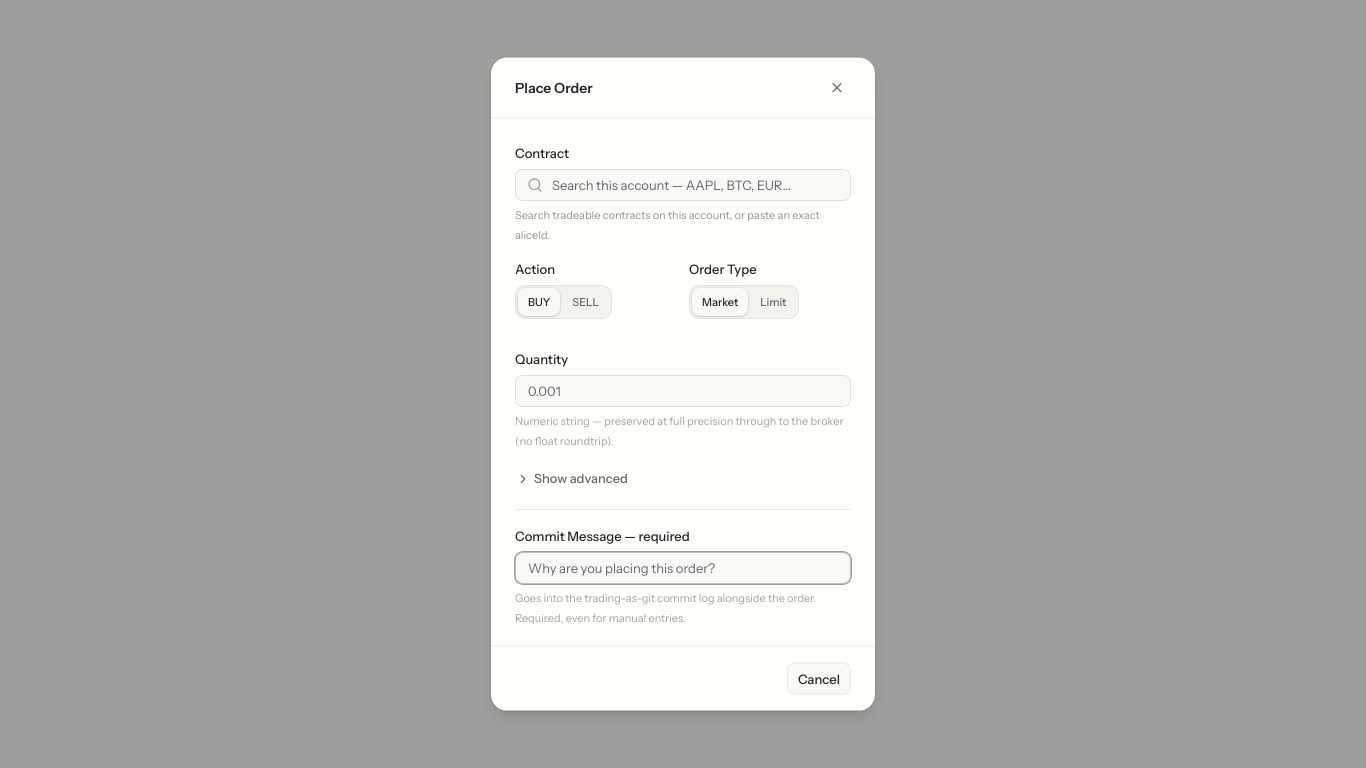
OrderEntryDialog sizing › removes Cash Qty when switching to a Limit order
Type "demo-paper|AAPL" into the search field labelled "Contract" at (683, 185), box [515,169,851,201]
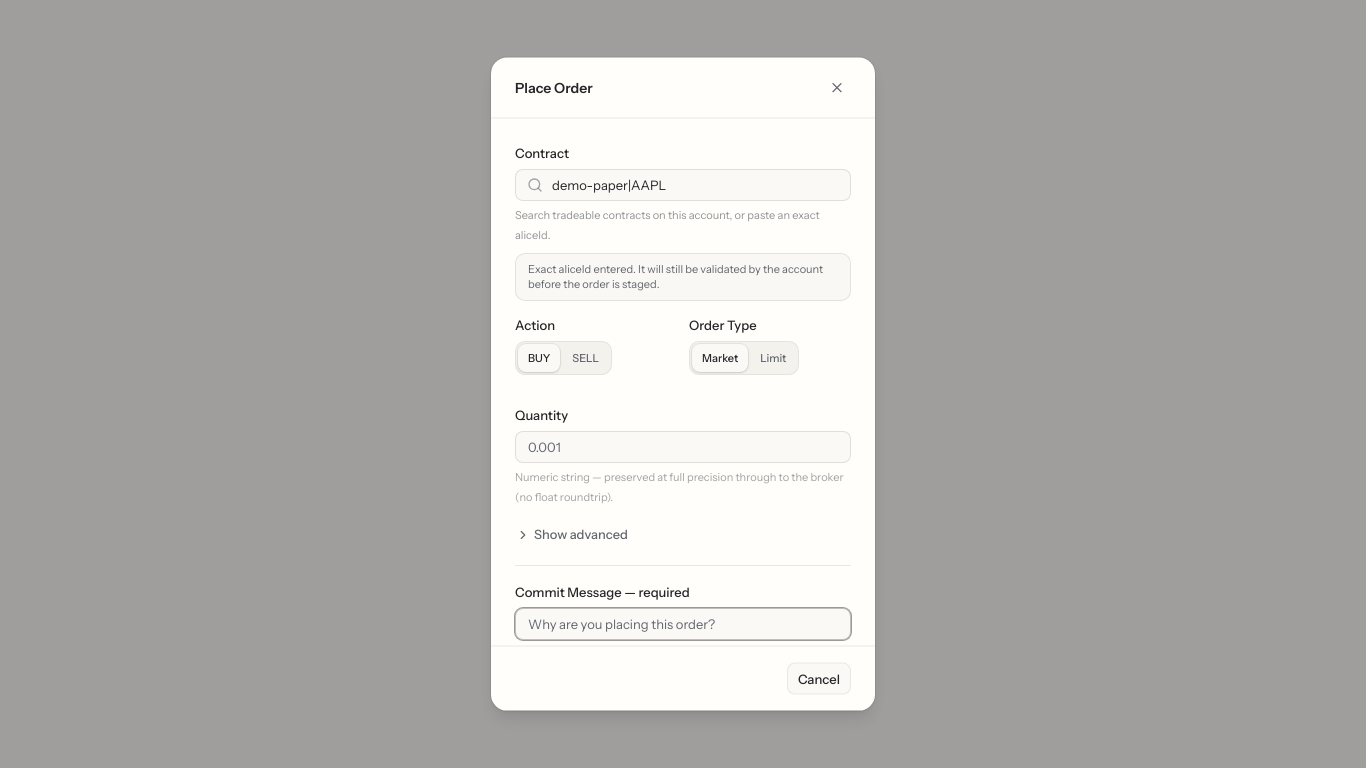
Type "Order sizing test" into the field with placeholder "Why are you placing this order?" at (683, 624), box [515,608,851,640]
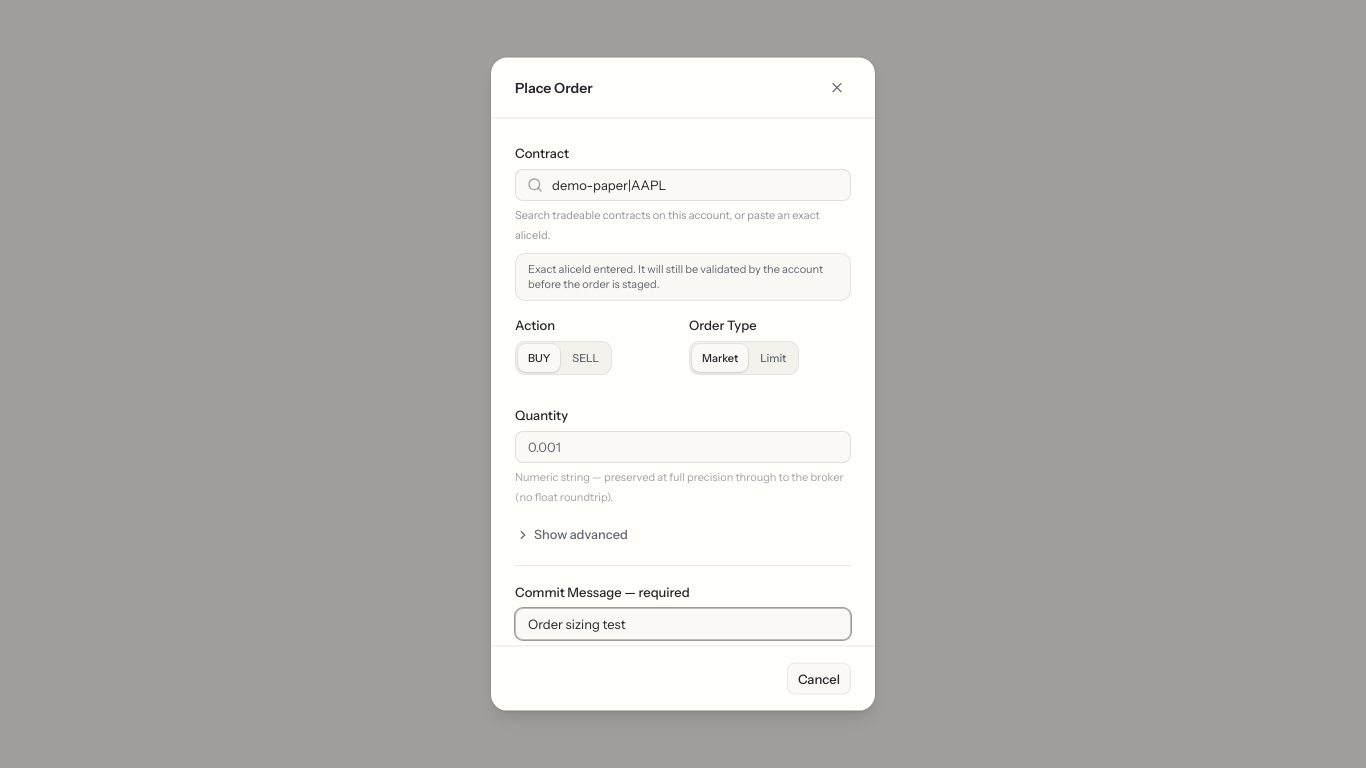
Click the button "Show advanced" at (572, 535), box [515,521,629,549]
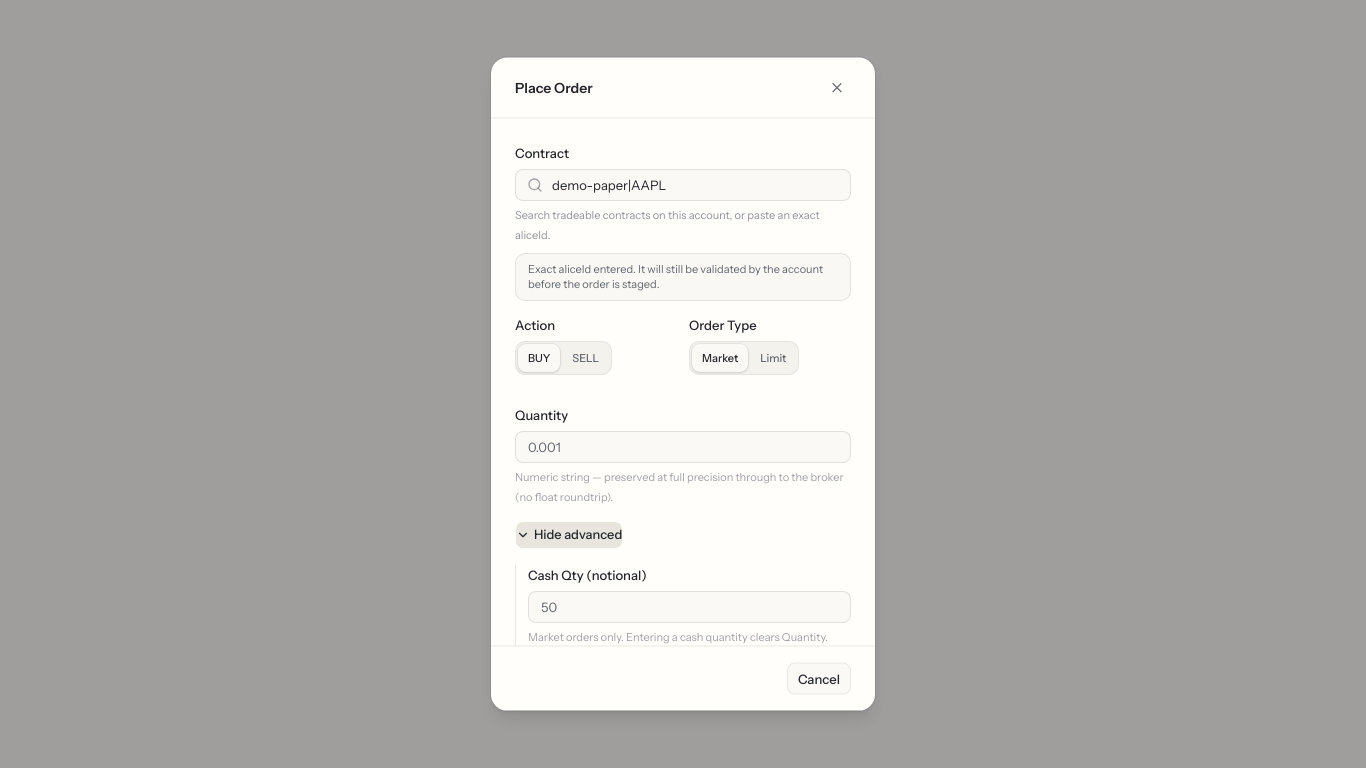
Type "100" into the field with placeholder "50" at (690, 607), box [528,591,851,623]
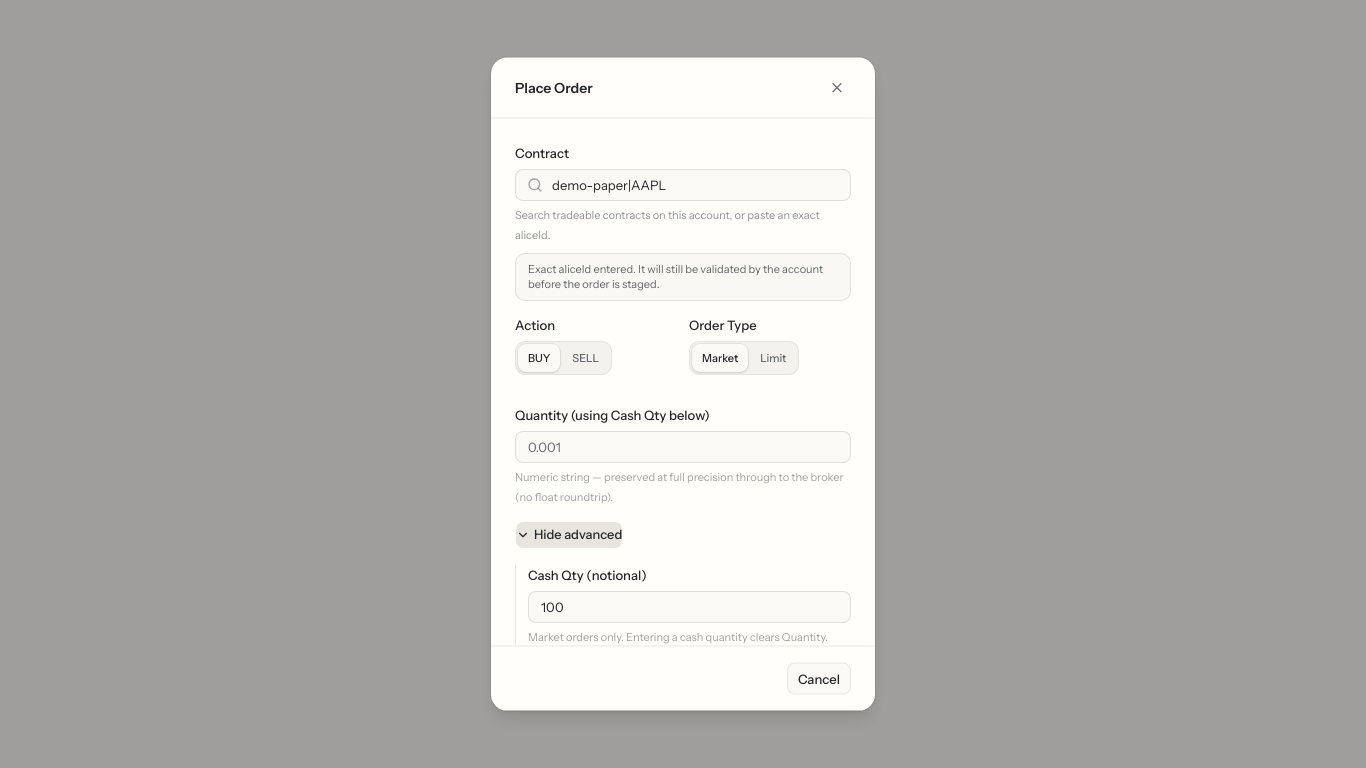
Click the button "Limit" at (773, 358), box [750,344,796,372]
(page scrolled)
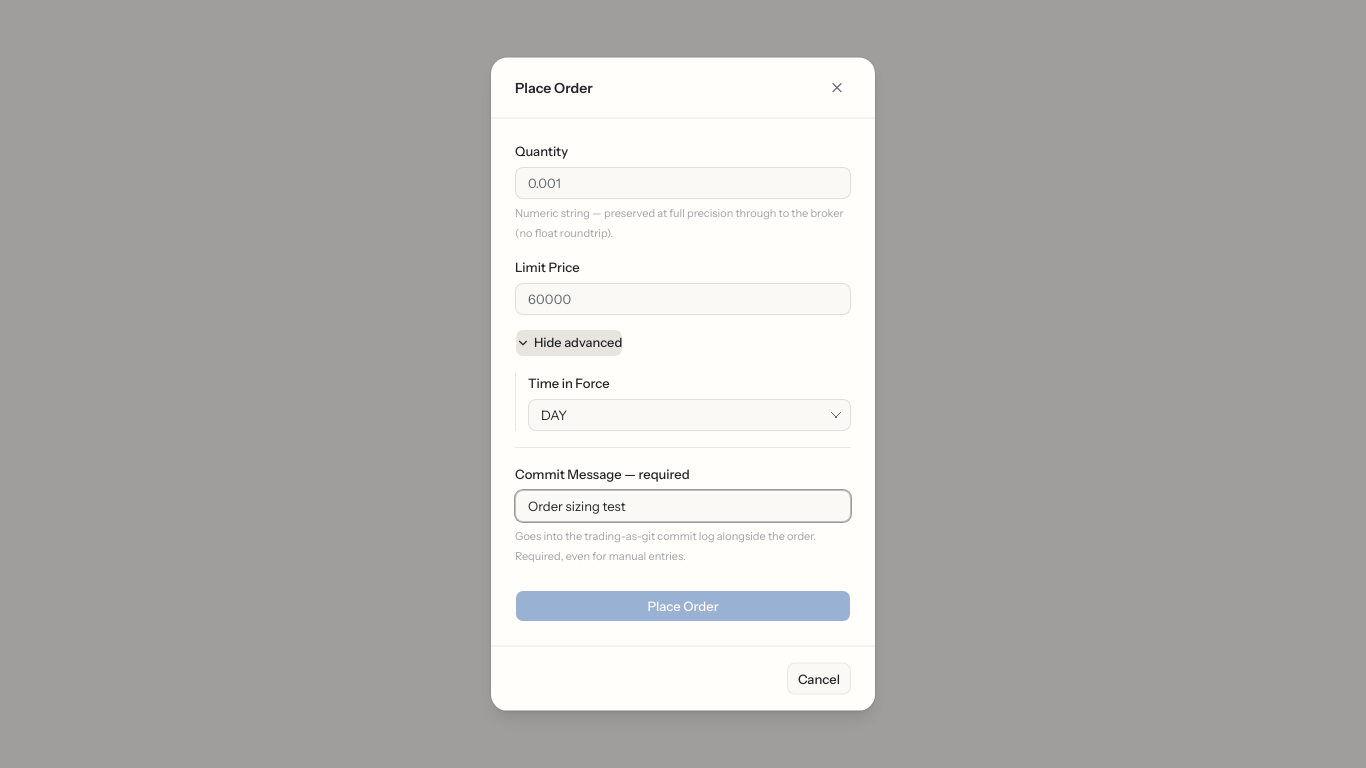
Check: the field with placeholder "50" is gone
Check: the button "Place Order" is disabled, box [515,590,851,622]
